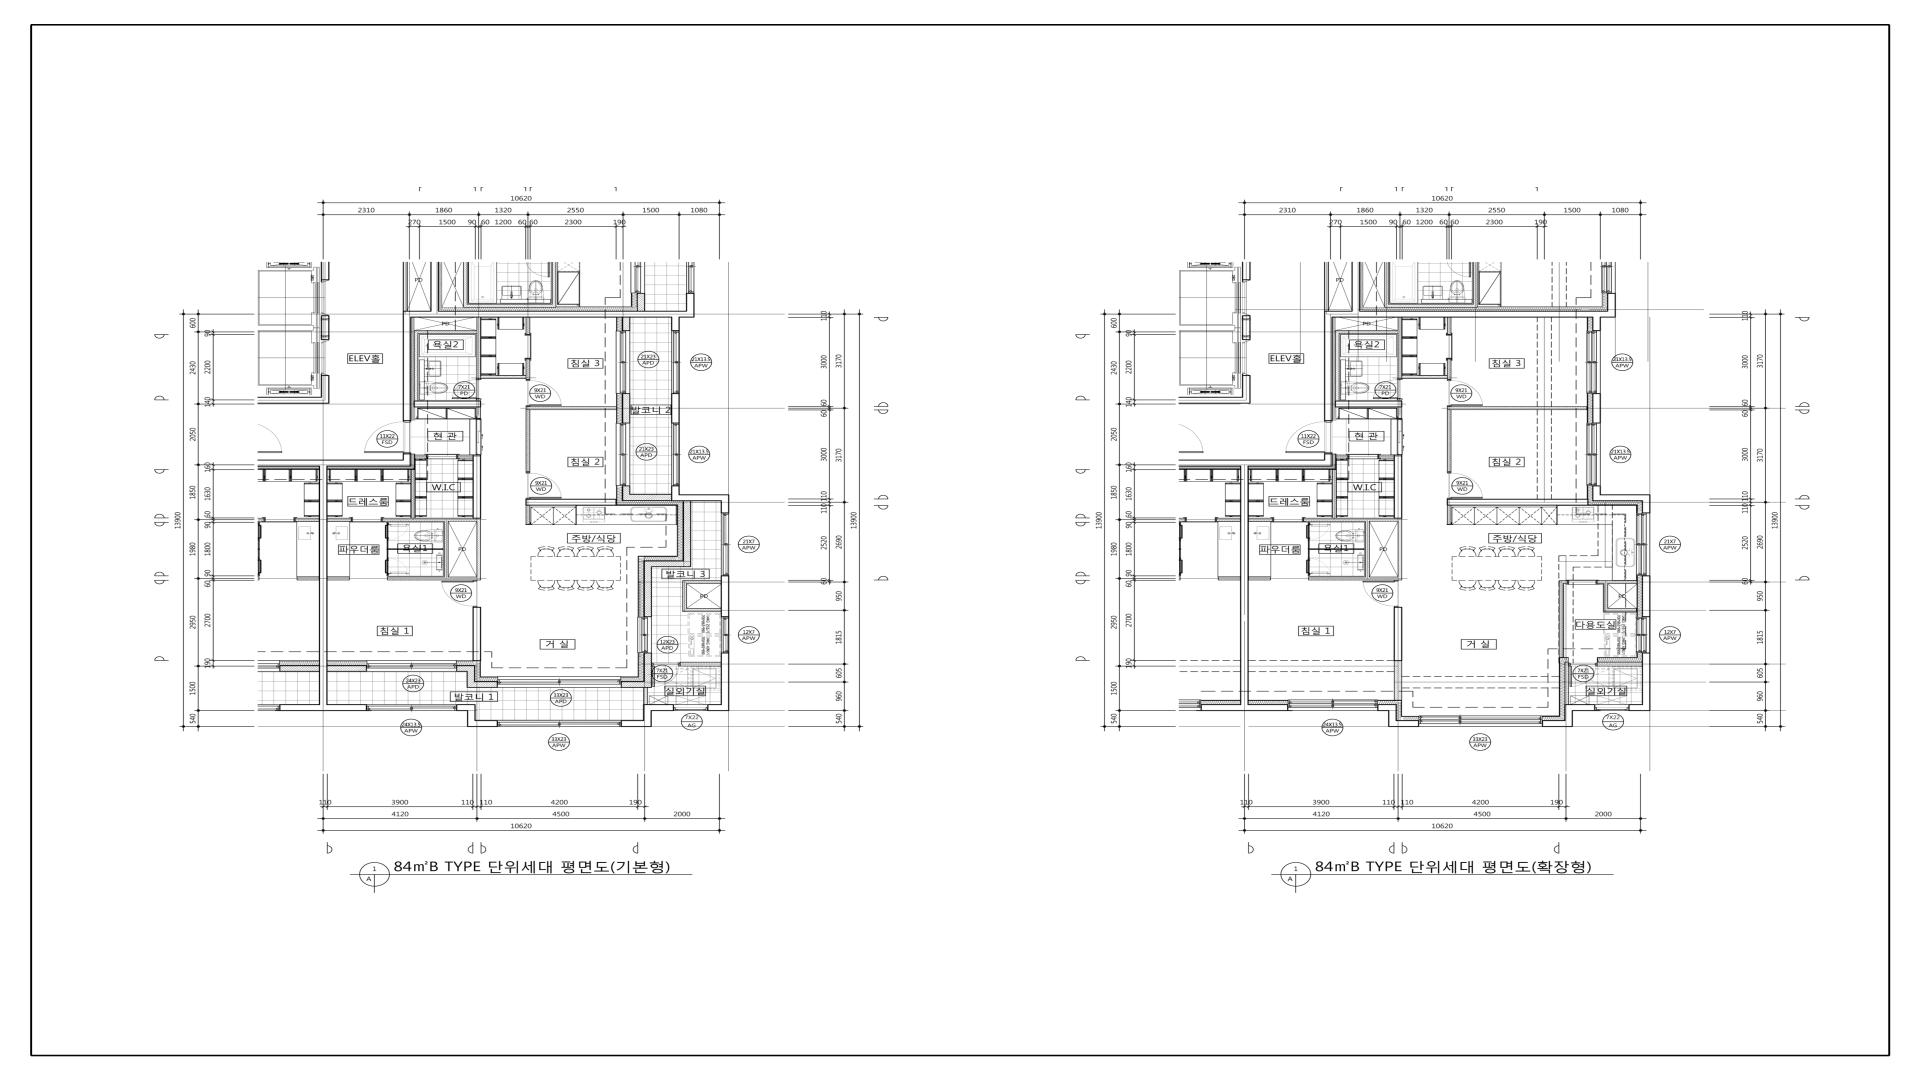door: (1285, 421, 1332, 453), (364, 421, 411, 453), (1447, 472, 1483, 499), (1363, 580, 1399, 607), (441, 580, 477, 607), (526, 472, 562, 499), (1447, 380, 1483, 406), (526, 380, 562, 406), (1569, 663, 1597, 687), (652, 663, 680, 687), (1373, 378, 1402, 401), (452, 378, 481, 401), (1306, 558, 1331, 576), (1306, 522, 1330, 540), (385, 558, 409, 576), (385, 522, 409, 540), (1397, 418, 1403, 455), (476, 418, 481, 455), (1446, 333, 1452, 360), (525, 333, 531, 360), (1273, 517, 1304, 522), (1348, 454, 1379, 459), (351, 517, 382, 522), (427, 454, 458, 459), (1568, 580, 1597, 585)
wall: (1240, 467, 1249, 704), (319, 467, 328, 704), (1324, 311, 1616, 317), (403, 311, 694, 317), (257, 460, 411, 467), (1179, 460, 1332, 467), (1447, 499, 1589, 506), (1324, 317, 1333, 421), (403, 317, 411, 421), (1394, 607, 1402, 701), (525, 499, 617, 506), (279, 704, 367, 711), (1201, 704, 1288, 711), (1447, 406, 1588, 410), (1179, 397, 1251, 404), (1394, 455, 1402, 518), (257, 397, 329, 404), (473, 455, 481, 518), (683, 501, 691, 560), (1642, 653, 1651, 704), (644, 560, 652, 617), (473, 607, 481, 661), (1335, 401, 1403, 407), (721, 653, 729, 704), (414, 401, 481, 407), (1352, 262, 1360, 311), (431, 262, 439, 311), (1642, 576, 1651, 617), (526, 406, 616, 410), (671, 494, 721, 501), (1593, 494, 1642, 501), (622, 494, 671, 501), (721, 576, 729, 617), (1447, 410, 1452, 472), (382, 518, 481, 521), (1304, 518, 1402, 521), (1559, 584, 1563, 657), (410, 470, 416, 518), (1365, 521, 1370, 577), (444, 521, 449, 577), (652, 560, 691, 567), (1592, 393, 1601, 423), (1308, 577, 1398, 580), (671, 393, 680, 423), (387, 577, 477, 580), (1335, 334, 1339, 401), (414, 334, 418, 401), (328, 665, 366, 672), (1335, 330, 1398, 334), (643, 653, 652, 681), (414, 330, 477, 334), (526, 410, 530, 472), (1324, 262, 1329, 311), (403, 262, 408, 311), (1398, 317, 1402, 378), (477, 317, 481, 378), (1332, 470, 1337, 518), (1398, 521, 1402, 580), (477, 521, 481, 580), (622, 394, 630, 423), (1242, 315, 1251, 340), (1542, 720, 1573, 727), (621, 720, 652, 727), (621, 681, 652, 688), (321, 315, 329, 340), (1242, 375, 1251, 397), (1597, 662, 1642, 666), (1402, 375, 1447, 379), (481, 375, 526, 379), (321, 375, 329, 397), (1642, 494, 1651, 513), (1565, 662, 1569, 704), (680, 662, 721, 666), (1242, 262, 1251, 280), (475, 681, 498, 688), (1597, 580, 1637, 584), (682, 580, 721, 584), (1397, 720, 1419, 727), (1573, 704, 1595, 711), (1629, 704, 1651, 711), (476, 720, 498, 727), (652, 704, 674, 711), (721, 494, 729, 513), (708, 704, 729, 711), (1564, 704, 1573, 720), (1388, 711, 1397, 727), (467, 711, 476, 727), (643, 704, 652, 720), (321, 262, 329, 280), (682, 584, 687, 612), (687, 608, 721, 612), (1378, 704, 1397, 711), (456, 704, 475, 711), (467, 672, 475, 688), (457, 665, 475, 672), (1592, 318, 1601, 331), (671, 318, 680, 331), (1608, 608, 1637, 612), (1604, 584, 1608, 612), (622, 317, 630, 331), (1310, 548, 1365, 550), (388, 548, 443, 550), (1249, 518, 1273, 522), (1447, 361, 1452, 380), (328, 518, 351, 522), (1447, 317, 1452, 333), (643, 688, 648, 704), (1447, 506, 1451, 525), (526, 506, 530, 525), (526, 361, 530, 380), (671, 486, 680, 494), (1249, 577, 1271, 580), (328, 577, 350, 580), (1593, 486, 1601, 494), (622, 486, 630, 494), (526, 317, 530, 333), (1324, 453, 1332, 460), (403, 453, 411, 460), (476, 407, 481, 418), (1379, 455, 1394, 458), (458, 455, 473, 458), (1398, 407, 1402, 418), (1558, 580, 1568, 584), (1308, 540, 1310, 558), (1336, 455, 1348, 458), (415, 455, 427, 458), (386, 540, 388, 558)
window: (498, 676, 621, 688), (1419, 716, 1542, 727), (367, 660, 457, 672), (1288, 700, 1378, 711), (616, 331, 630, 394), (1587, 423, 1601, 486), (1636, 513, 1650, 576), (616, 423, 630, 486), (1587, 331, 1601, 393), (498, 720, 621, 727), (367, 704, 456, 711), (671, 423, 680, 486), (671, 331, 680, 393), (637, 617, 652, 653), (1636, 617, 1651, 653), (721, 513, 729, 576), (721, 617, 729, 653), (1595, 704, 1629, 711), (674, 704, 708, 711)
